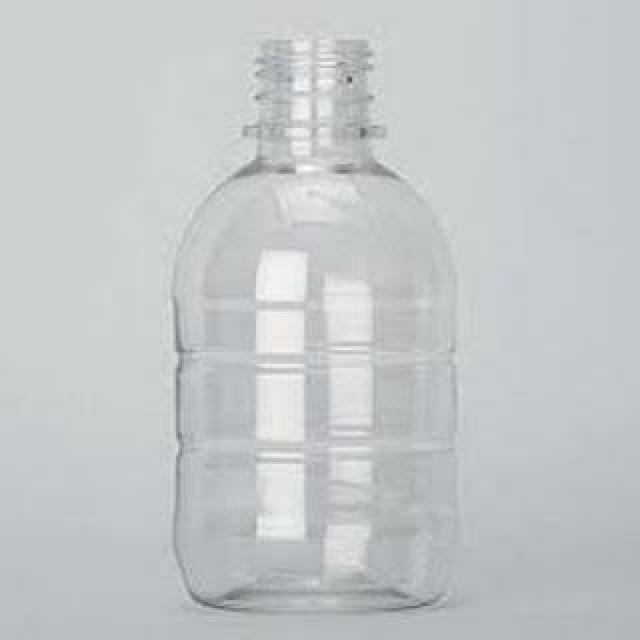Pet_Bottle: (162, 113, 472, 625)
